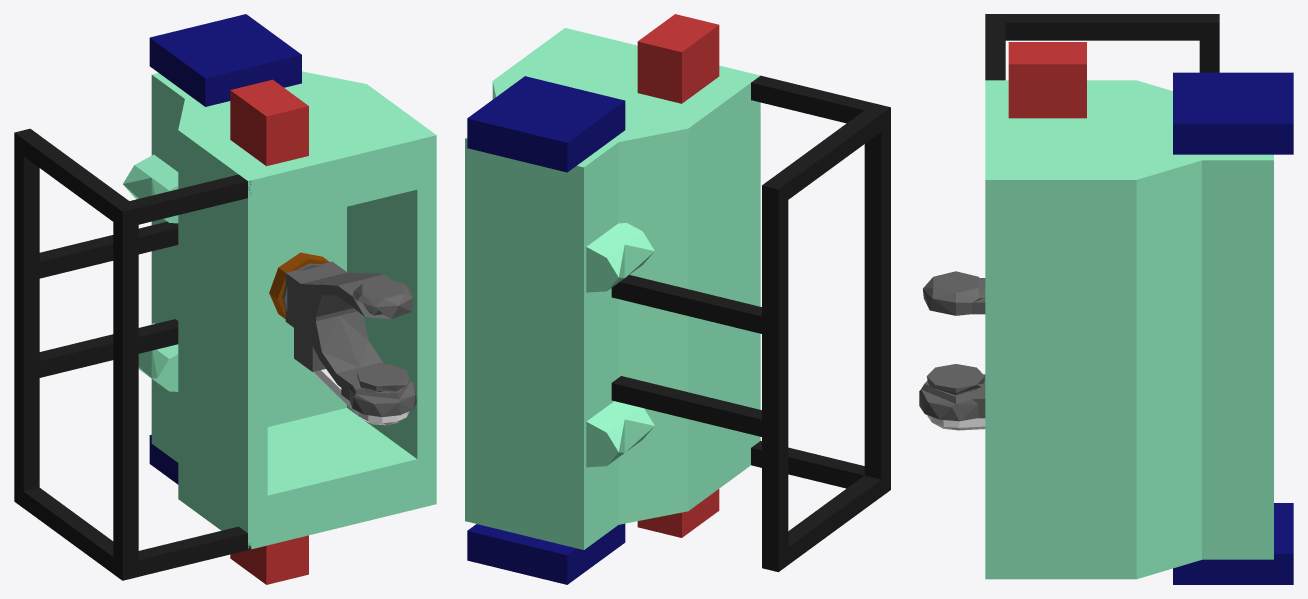
The model's file is BODY_mesh.dae.
3 renders of one model, left to right at view 1: azimuth 30°, elevation 25°; view 2: azimuth 150°, elevation 25°; view 3: azimuth 270°, elevation 25°, orthographic. The views are drawn at different scales.
Parts seen in each view (by area): view 1: BODY (×9); view 2: BODY (×6); view 3: BODY (×7).
Part boxes in pixels (box(x1,y1,x2,y2)): BODY (×9): box(14, 14, 436, 584); BODY (×6): box(465, 14, 890, 584); BODY (×7): box(919, 14, 1293, 584).
Size of the model in its own units: 0.3902 by 0.556 by 0.3723.
